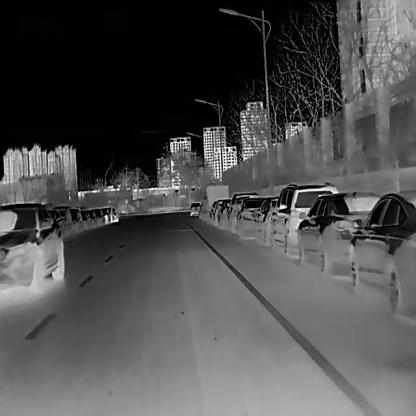car: (348, 189, 415, 314), (296, 190, 380, 276), (0, 201, 63, 291), (269, 181, 338, 257), (250, 194, 278, 245), (233, 196, 265, 239), (228, 190, 258, 232), (52, 205, 72, 238), (217, 197, 230, 228), (69, 208, 84, 232), (92, 207, 105, 225), (103, 206, 113, 222), (189, 202, 202, 214)
truck: (203, 184, 228, 218)
